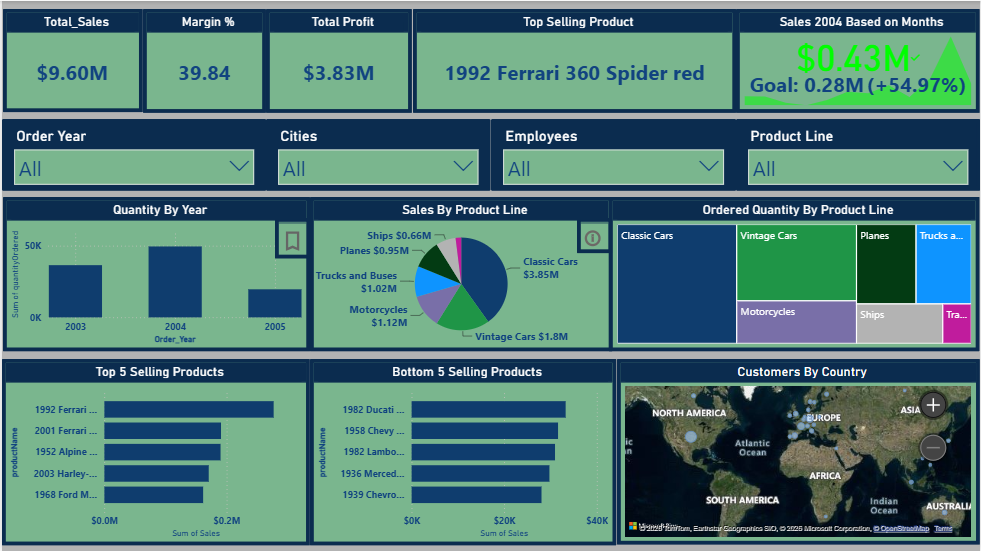

This screenshot's page, from the dashboard's own definition file:
{"tool":"powerbi","page":{"name":"Page 1","canvas":[1280,720],"ordinal":0},"visuals":[{"type":"cardVisual","title":"Total Profit","fields":{"Data":["Order_Details.Total_Profit"]},"box":[346,9.9,191.5,136.1],"z":0},{"type":"cardVisual","title":"Top Selling Product","fields":{"Data":["Order_Details.Most Sold Product"]},"box":[537.5,9.9,423.3,136.1],"z":1000},{"type":"barChart","title":"Top 5 Selling Products","fields":{"Category":["Products.productName"],"Y":["Sum(Order_Details.Sales)"]},"box":[0,468.5,403.1,243.6],"z":2000},{"type":"pieChart","title":"Sales By Product Line","fields":{"Y":["Sum(Order_Details.Sales)"],"Category":["Products.productLine"]},"box":[403.2,256.3,396,201.6],"z":3000},{"type":"columnChart","title":"Quantity By Year","fields":{"Category":["Orders.Order_Year"],"Y":["Sum(Order_Details.quantityOrdered)"]},"box":[1.4,256.3,401.8,201.6],"z":4000},{"type":"slicer","fields":{"Values":["Orders.Order_Year"]},"box":[0,154.1,346,94.1],"z":5000},{"type":"kpi","title":"Sales 2004 Based on Months","fields":{"TrendLine":["Orders.Month Name"],"Goal":["Orders.Year_2003"],"Indicator":["Orders.Year_2004"]},"box":[960.8,9.9,319.2,136.1],"z":6000},{"type":"map","title":"Customers By Country","fields":{"Size":["CountNonNull(Customers.customerNumber)"],"Category":["Customers.country"]},"box":[805,468,475.2,243.4],"z":7000},{"type":"treemap","title":"Ordered Quantity By Product Line","fields":{"Group":["ProductLine.productLine"],"Values":["Sum(Order_Details.quantityOrdered)"]},"box":[794.7,256.3,485.3,201.6],"z":8000},{"type":"cardVisual","title":"Margin %","fields":{"Data":["classic_models_dataset.Margin% on Sales"]},"box":[184.8,9.9,161.3,136.1],"z":9000},{"type":"cardVisual","title":"Total_Sales","fields":{"Data":["Order_Details.Total_Sales"]},"box":[1.4,10.1,182.9,135.4],"z":10000},{"type":"slicer","fields":{"Values":["Offices.city"]},"box":[346,154.1,294,94.1],"z":11000},{"type":"slicer","fields":{"Values":["Employees.FullName"]},"box":[640,154.1,320.8,94.1],"z":12000},{"type":"slicer","fields":{"Values":["ProductLine.productLine"]},"box":[960.5,154.1,319.7,93.6],"z":13000},{"type":"barChart","title":"Bottom 5 Selling Products","fields":{"Category":["Products.productName"],"Y":["Sum(Order_Details.Sales)"]},"box":[403.1,468.5,401.5,243.6],"z":14000},{"type":"actionButton","box":[753.1,283.7,46.1,46.1],"z":15000},{"type":"actionButton","box":[357.2,283.7,46.1,53],"z":16000}]}

Visuals, with their boxes in screenshot pixels (x1, y1, x2, y2), scaled from the page's 1280x720 canvas onto the 981x551 screenshot:
"Total Profit" cardVisual: rect(265, 8, 412, 112)
"Top Selling Product" cardVisual: rect(412, 8, 736, 112)
"Top 5 Selling Products" barChart: rect(0, 359, 309, 545)
"Sales By Product Line" pieChart: rect(309, 196, 613, 350)
"Quantity By Year" columnChart: rect(1, 196, 309, 350)
slicer - Orders.Order_Year: rect(0, 118, 265, 190)
"Sales 2004 Based on Months" kpi: rect(736, 8, 980, 112)
"Customers By Country" map: rect(617, 358, 980, 544)
"Ordered Quantity By Product Line" treemap: rect(609, 196, 980, 350)
"Margin %" cardVisual: rect(142, 8, 265, 112)
"Total_Sales" cardVisual: rect(1, 8, 141, 111)
slicer - Offices.city: rect(265, 118, 490, 190)
slicer - Employees.FullName: rect(490, 118, 736, 190)
slicer - ProductLine.productLine: rect(736, 118, 980, 190)
"Bottom 5 Selling Products" barChart: rect(309, 359, 617, 545)
actionButton: rect(577, 217, 613, 252)
actionButton: rect(274, 217, 309, 258)
